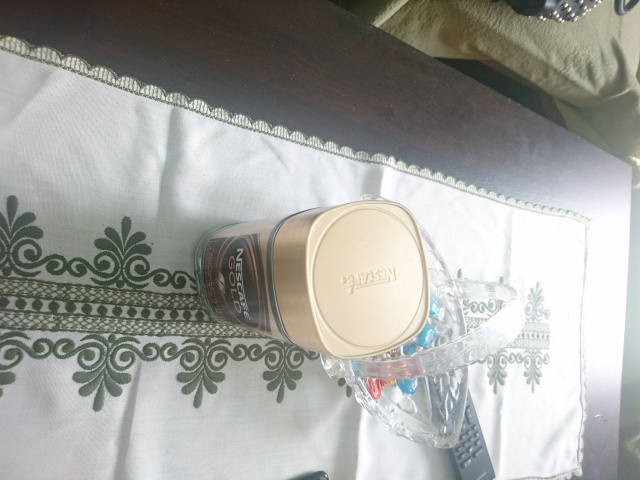Nescafe Gold 225g: (191, 197, 433, 363)
